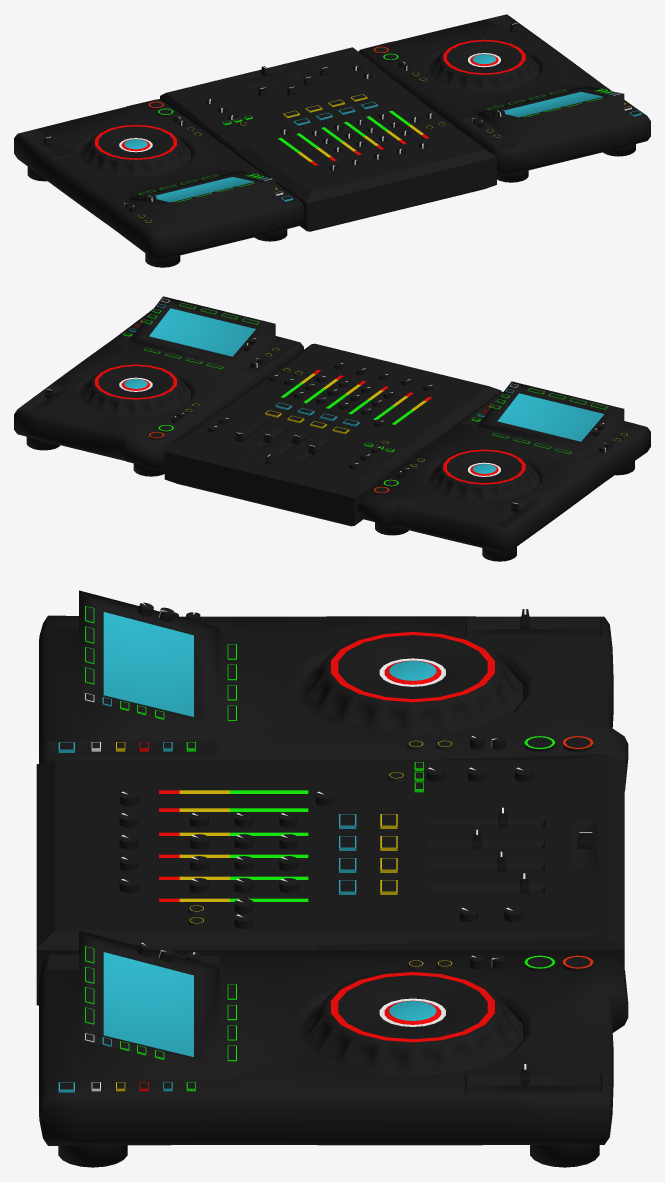
Rendered from DJ-Set.fbx.
3 views of the same model, one above another, from view 1: azimuth 30°, elevation 25°; view 2: azimuth 150°, elevation 25°; view 3: azimuth 270°, elevation 25° (orthographic). The views are drawn at different scales.
Parts seen in each view (by area): view 1: Box058, Cylinder121, Cylinder226; view 2: Box058, Cylinder121, Cylinder226; view 3: Cylinder226, Box058, Cylinder121, Cylinder228, Cylinder230.
Part boxes in pixels (x1,y1,x2,y2): Box058: [160, 47, 496, 231]; Cylinder121: [14, 99, 303, 260]; Cylinder226: [358, 14, 650, 176]; Box058: [164, 343, 501, 526]; Cylinder121: [356, 381, 650, 553]; Cylinder226: [14, 296, 303, 468]; Cylinder226: [39, 930, 628, 1145]; Box058: [36, 754, 624, 1005]; Cylinder121: [39, 590, 628, 791]; Cylinder228: [530, 1145, 599, 1167]; Cylinder230: [58, 1145, 127, 1167].
Size of the model in its own units: 17.39 by 1.91 by 8.96.
